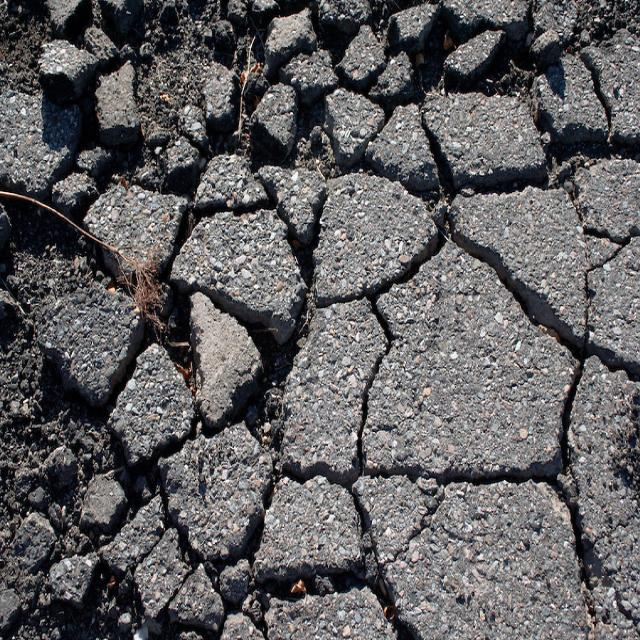Drain Hole: (144, 97, 622, 640)
